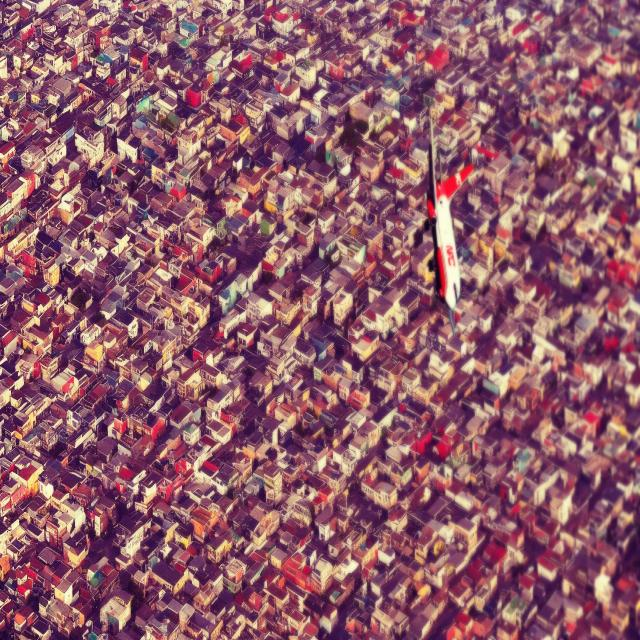airplane: (426, 115, 474, 338)
